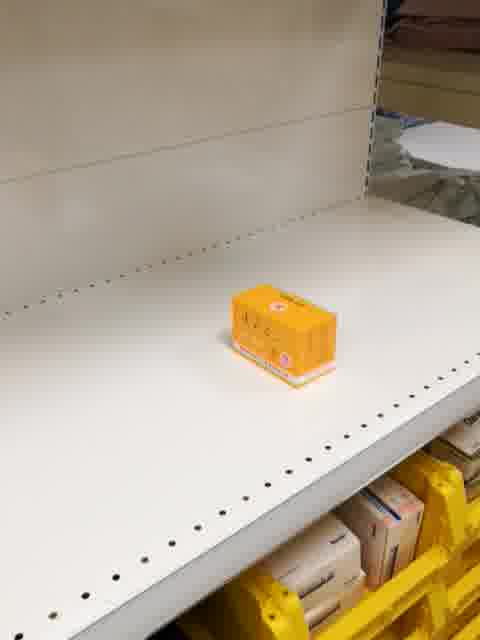jasminetea: (231, 281, 338, 392)
